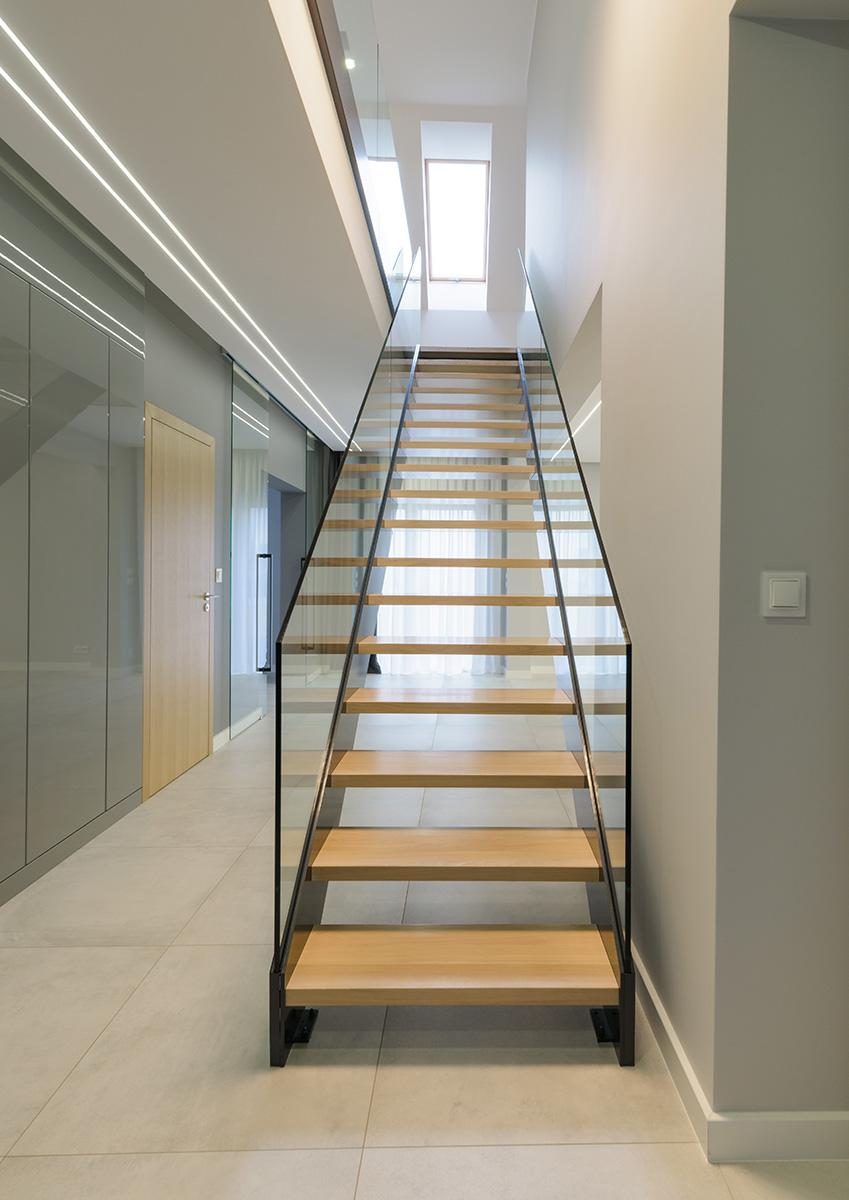Bench: (286, 308, 630, 1008)
